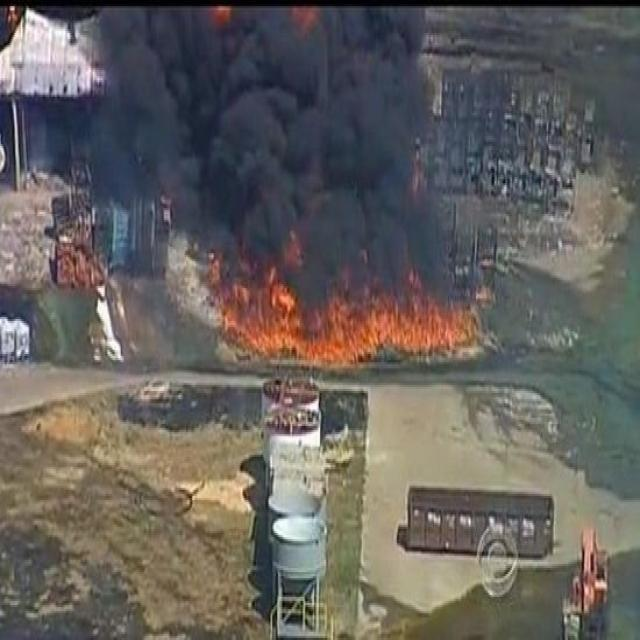Fire: (208, 234, 481, 368)
Smoke: (93, 6, 449, 315)
